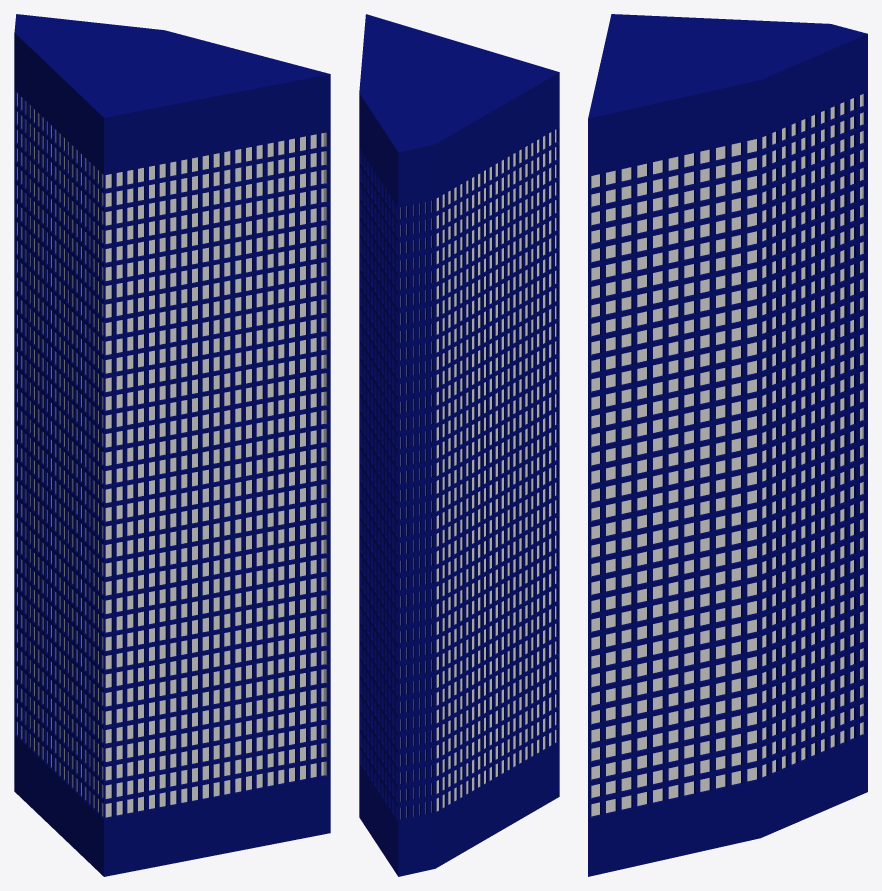
File: OneHalifax.fbx
3 views of the same model, side by side, from view 1: azimuth 30°, elevation 25°; view 2: azimuth 150°, elevation 25°; view 3: azimuth 270°, elevation 25° (orthographic). The views are drawn at different scales.
Parts seen in each view (by area): view 1: OneHalifax; view 2: OneHalifax; view 3: OneHalifax.
Boxes of the visible parts, box(x1,y1,x2,y2) form: OneHalifax: box(14, 14, 330, 876); OneHalifax: box(359, 14, 559, 876); OneHalifax: box(588, 14, 867, 876).
Size of the model in its own units: 4441 by 15000 by 5018.
